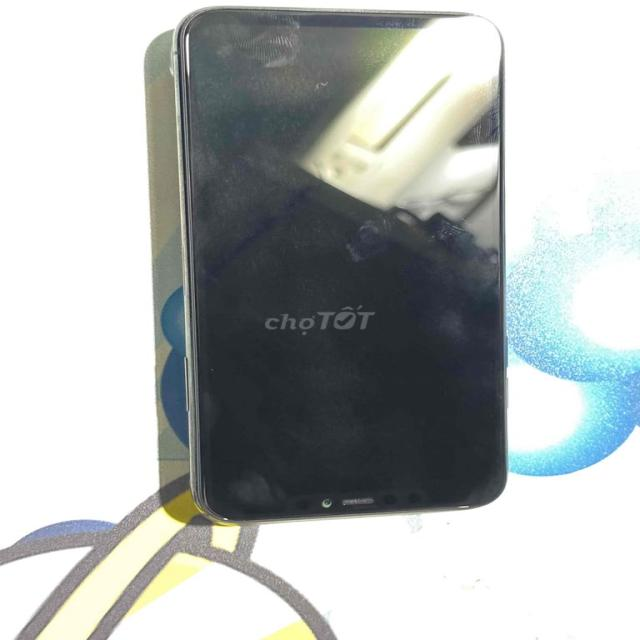gen_11: (173, 8, 507, 522)
scratch: (436, 498, 484, 524), (308, 72, 338, 104), (216, 504, 230, 528)
